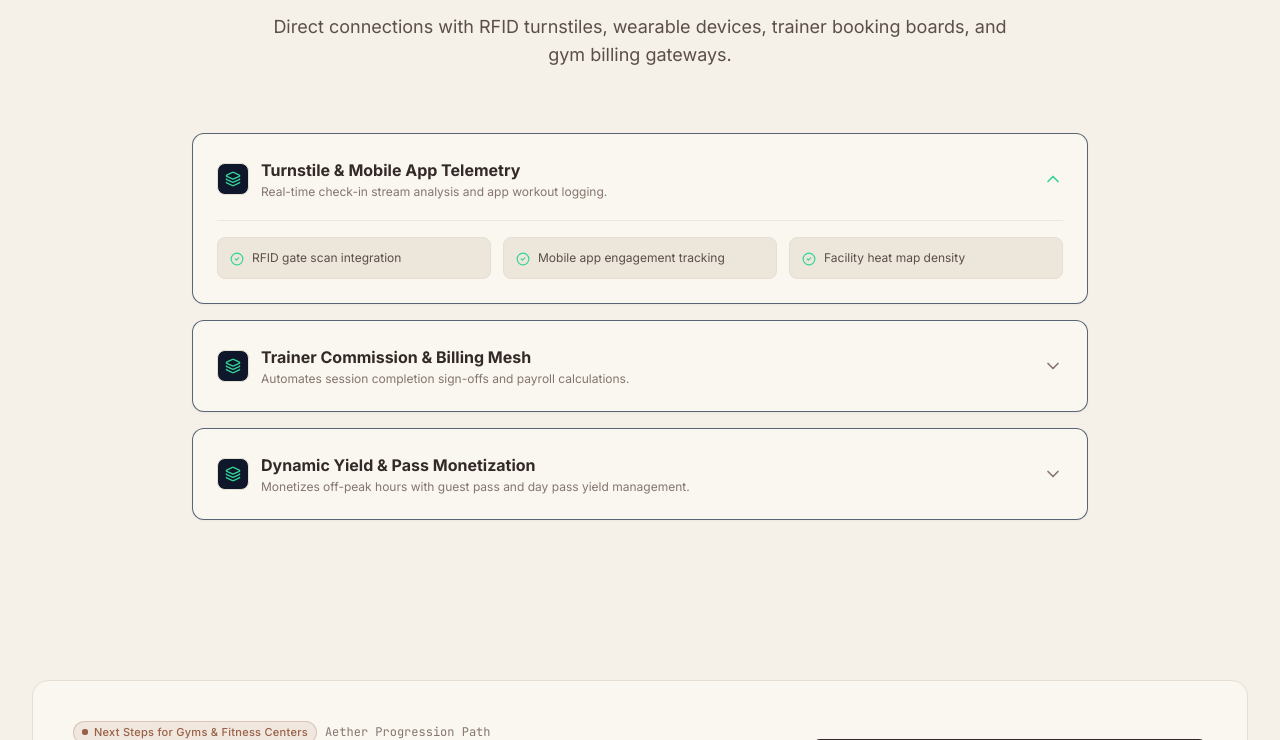
GymExperience › toggles accordion items in additional capabilities
(page scrolled)
Expected: the heading "Turnstile & Mobile App Telemetry" is shown, [261, 160, 520, 180]
// Toggle second accordion item
What coordinates should you click on to do the following:
click the button "Trainer Commission & Billing Mesh"
I would click on:
 (233, 366)
Its box is [217, 345, 1063, 387].
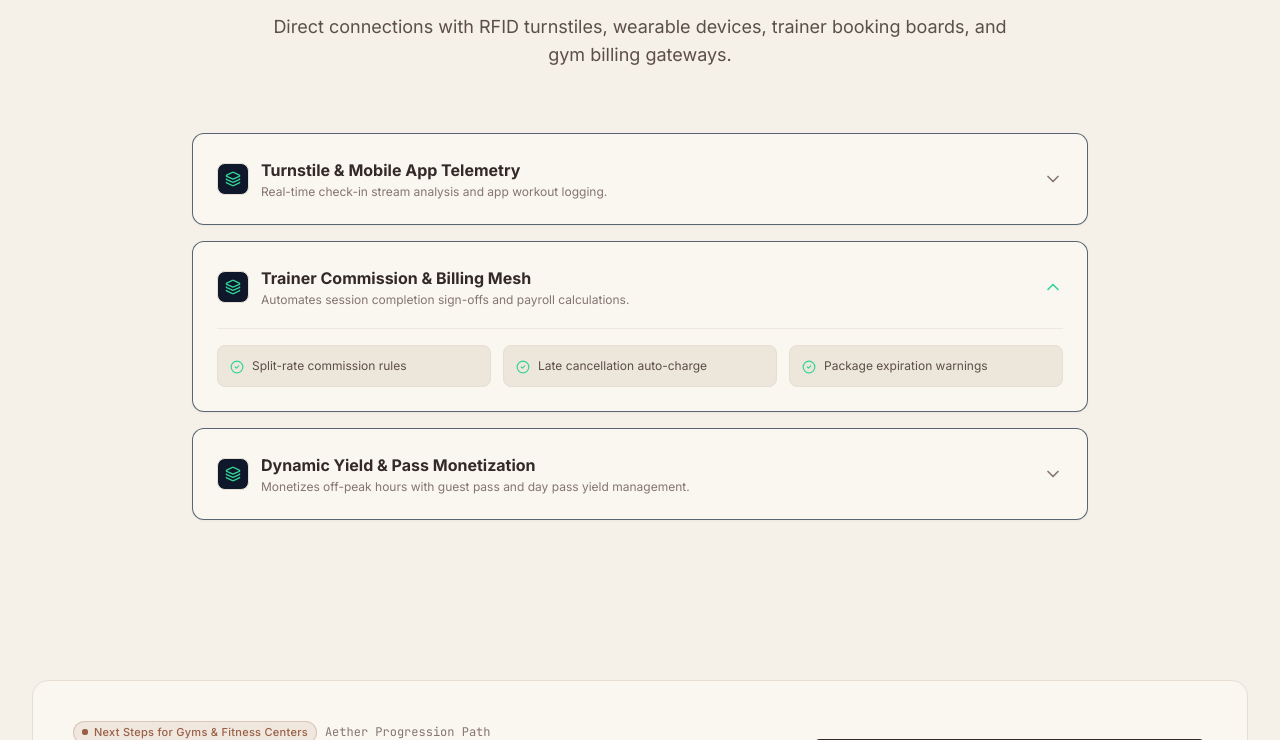
Expected: the text "Split-rate commission rules" is shown, [252, 358, 407, 374]
